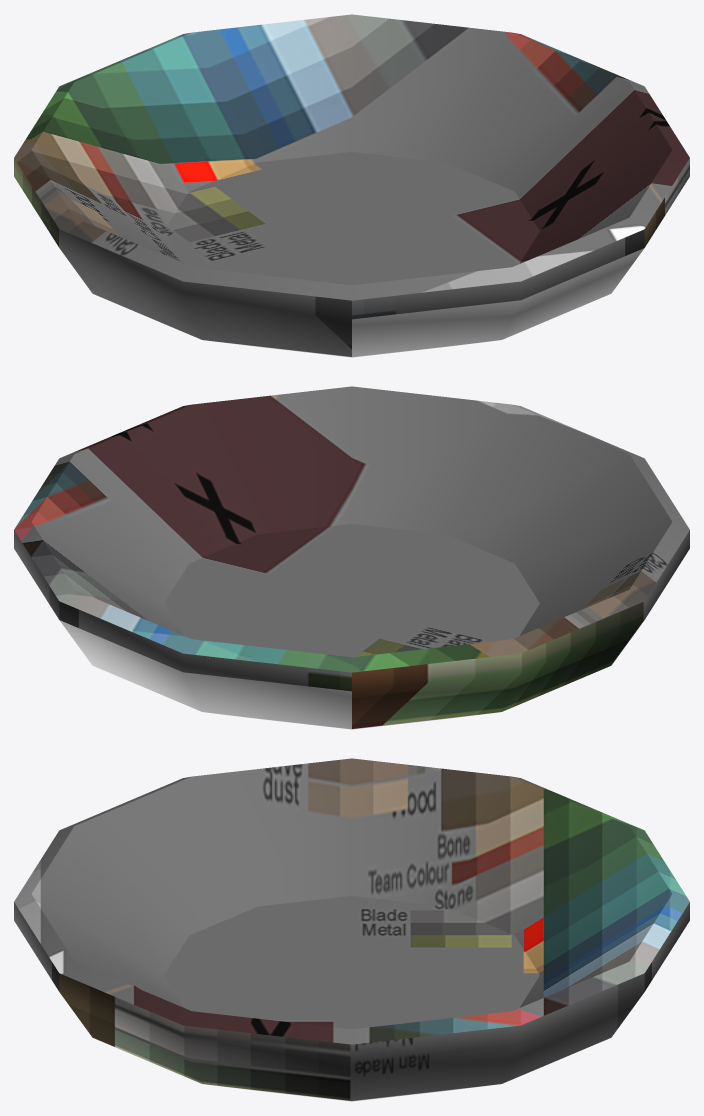
Rendered from Piatto_Fondo_1.fbx.
The picture shows the model from 3 angles, top to bottom: view 1: azimuth 30°, elevation 25°; view 2: azimuth 150°, elevation 25°; view 3: azimuth 270°, elevation 25°; orthographic projection.
Visible parts, largest first — view 1: Piatto_Fondo_bianco; view 2: Piatto_Fondo_bianco; view 3: Piatto_Fondo_bianco.
Boxes of the visible parts, x1,y1,x2,y2 form: Piatto_Fondo_bianco: [14, 14, 689, 357]; Piatto_Fondo_bianco: [14, 386, 689, 729]; Piatto_Fondo_bianco: [14, 758, 689, 1101].
Size of the model in its own units: 0.2274 by 0.0476 by 0.2274.
